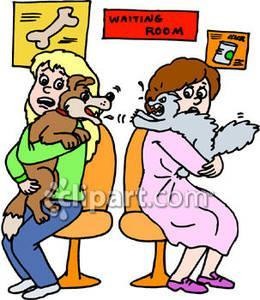cat: (130, 95, 257, 175)
chair: (50, 126, 114, 292), (120, 127, 184, 290)
dog: (1, 75, 113, 238)
person: (1, 53, 99, 295), (137, 54, 236, 293)
